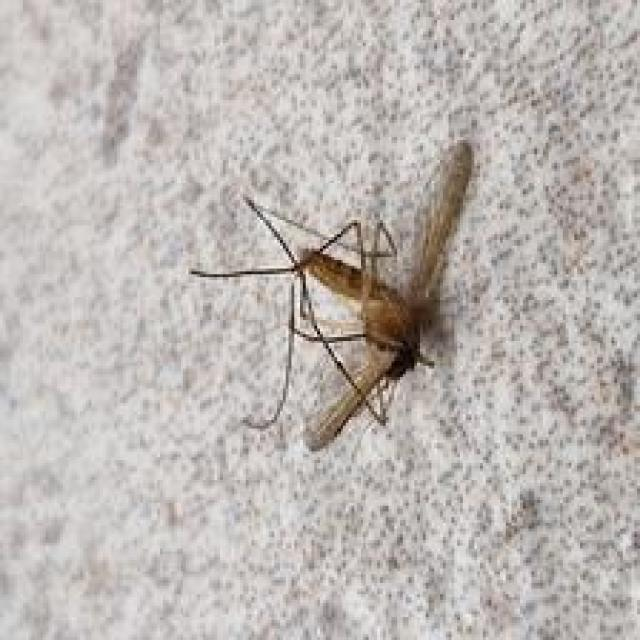Culex: (189, 138, 477, 453)
